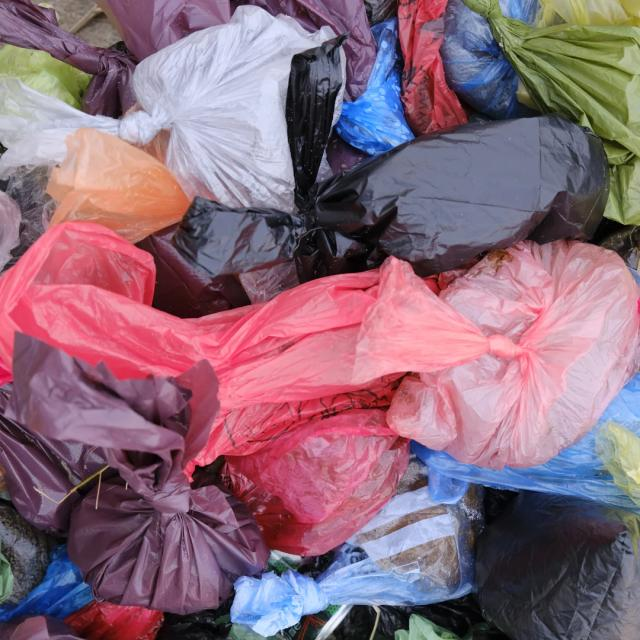Single-layer Plastic: (5, 332, 269, 613), (174, 115, 609, 282), (0, 222, 379, 411), (0, 6, 335, 211), (355, 240, 640, 469), (464, 0, 640, 224), (231, 485, 482, 636), (415, 374, 640, 513), (224, 409, 409, 556), (475, 491, 640, 640), (190, 381, 398, 469), (46, 129, 190, 242), (0, 0, 138, 117), (0, 384, 106, 533), (231, 0, 376, 101), (285, 32, 348, 211), (335, 18, 414, 155), (440, 0, 519, 119), (399, 0, 466, 136), (99, 0, 231, 60)
